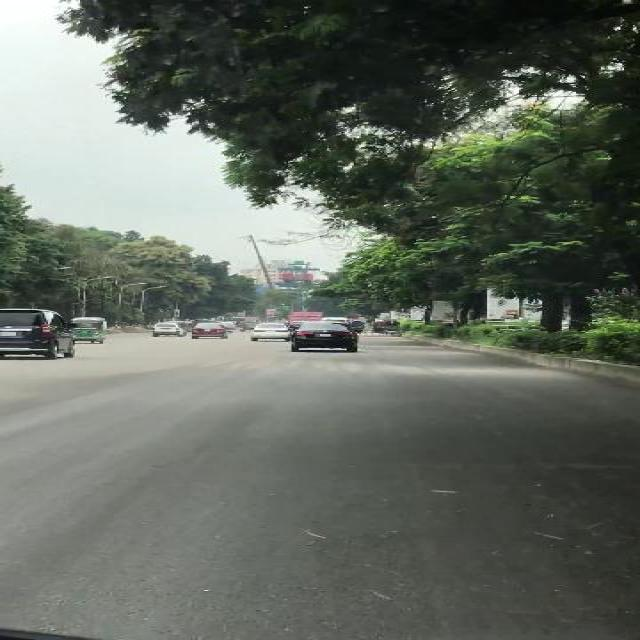vehicle: (1, 306, 77, 361), (294, 323, 356, 351), (76, 319, 108, 344), (252, 324, 287, 343), (190, 323, 228, 340), (151, 323, 183, 337), (384, 321, 400, 338), (354, 322, 366, 337), (372, 322, 384, 336)
